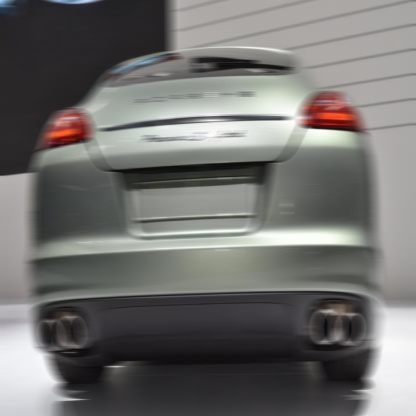Vehicle: (27, 44, 384, 391)
